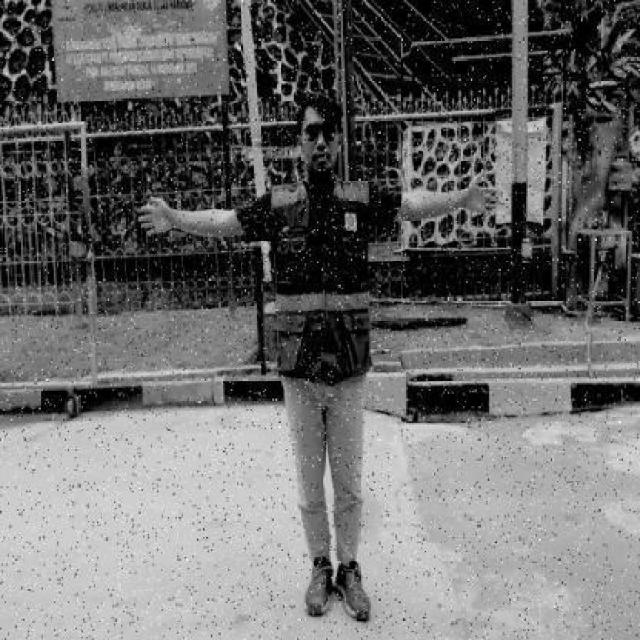Boots: (332, 559, 374, 623), (304, 552, 334, 628)
